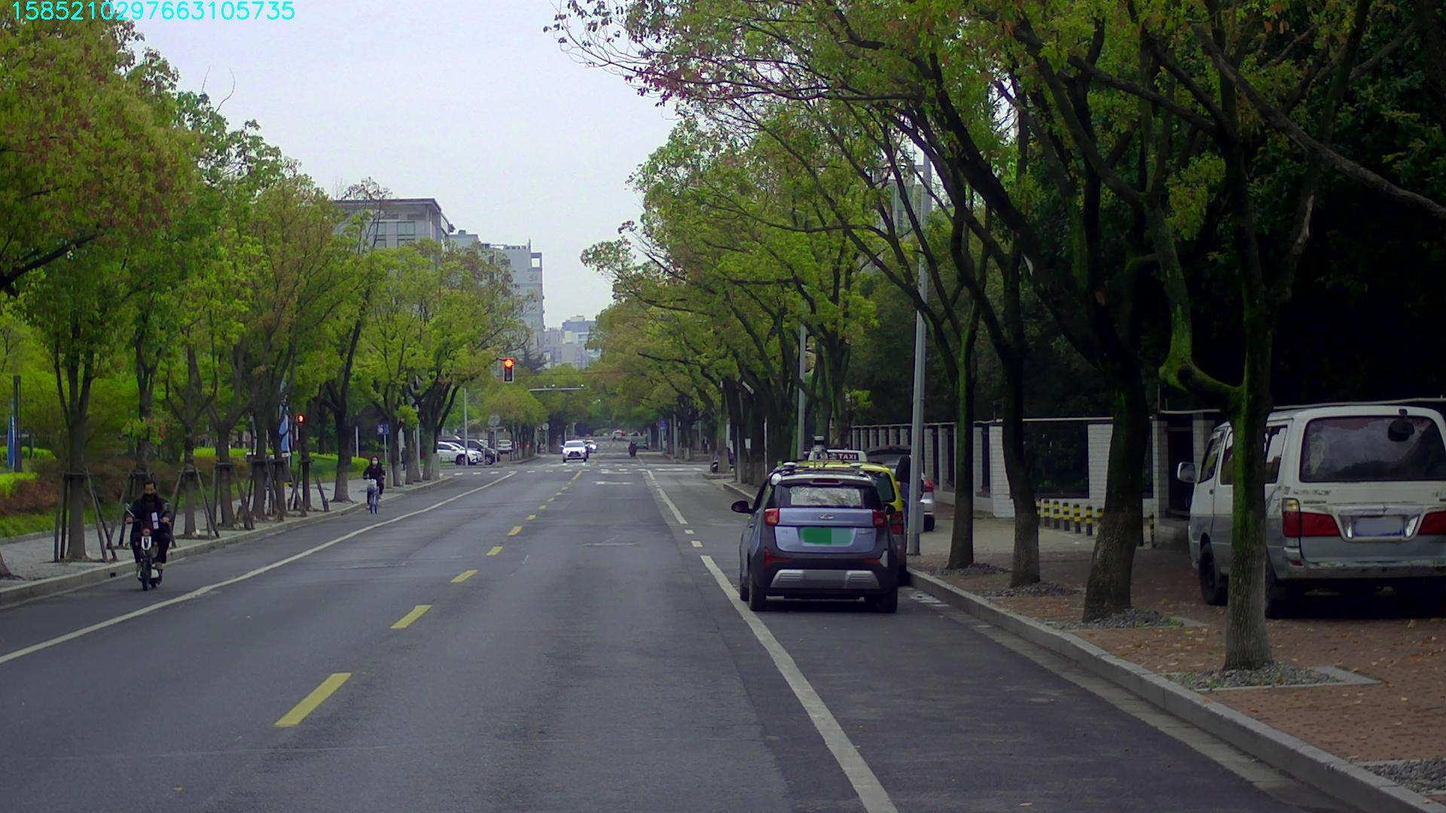red: (503, 358, 512, 382)
